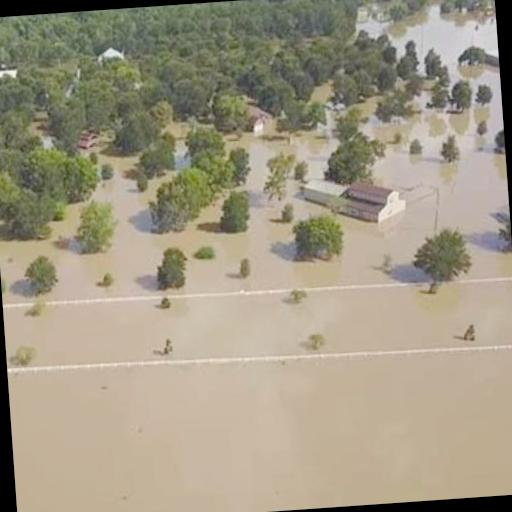flood: (0, 4, 512, 306), (8, 350, 512, 512), (3, 282, 512, 365)
house: (334, 172, 412, 226), (296, 176, 348, 208)
